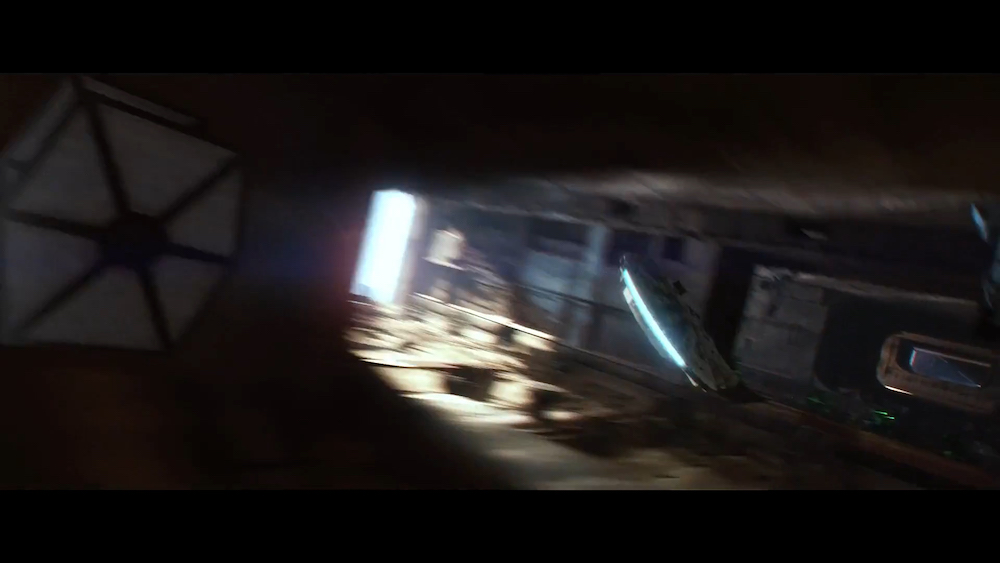Millennium Falcon: (617, 251, 746, 397)
Tie Fighter: (1, 73, 254, 365)
